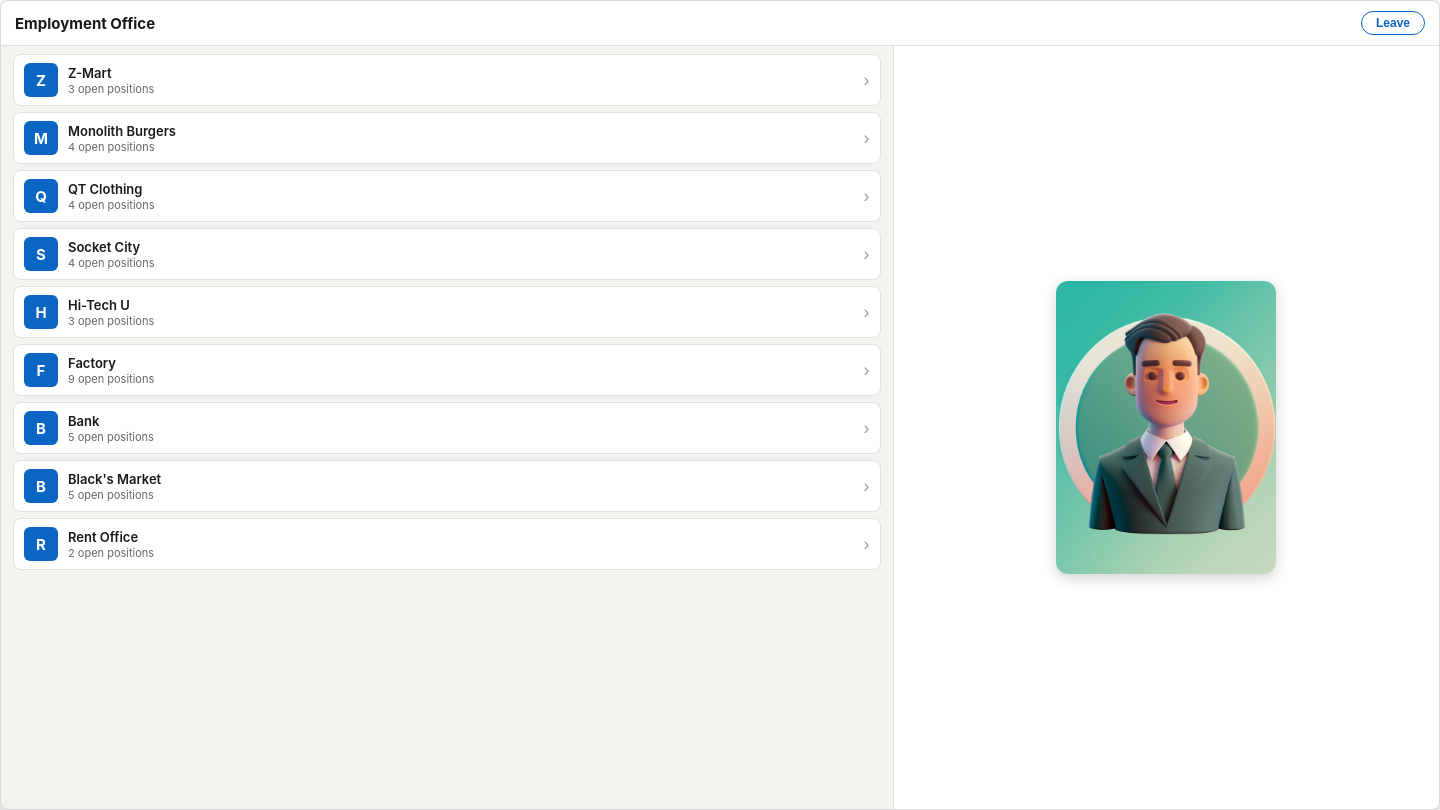
EmploymentOfficeScreen › shows a REJECTED notification with the missing degree as the reason
Click the text "Z-Mart": (90, 72) [68,64,112,80]
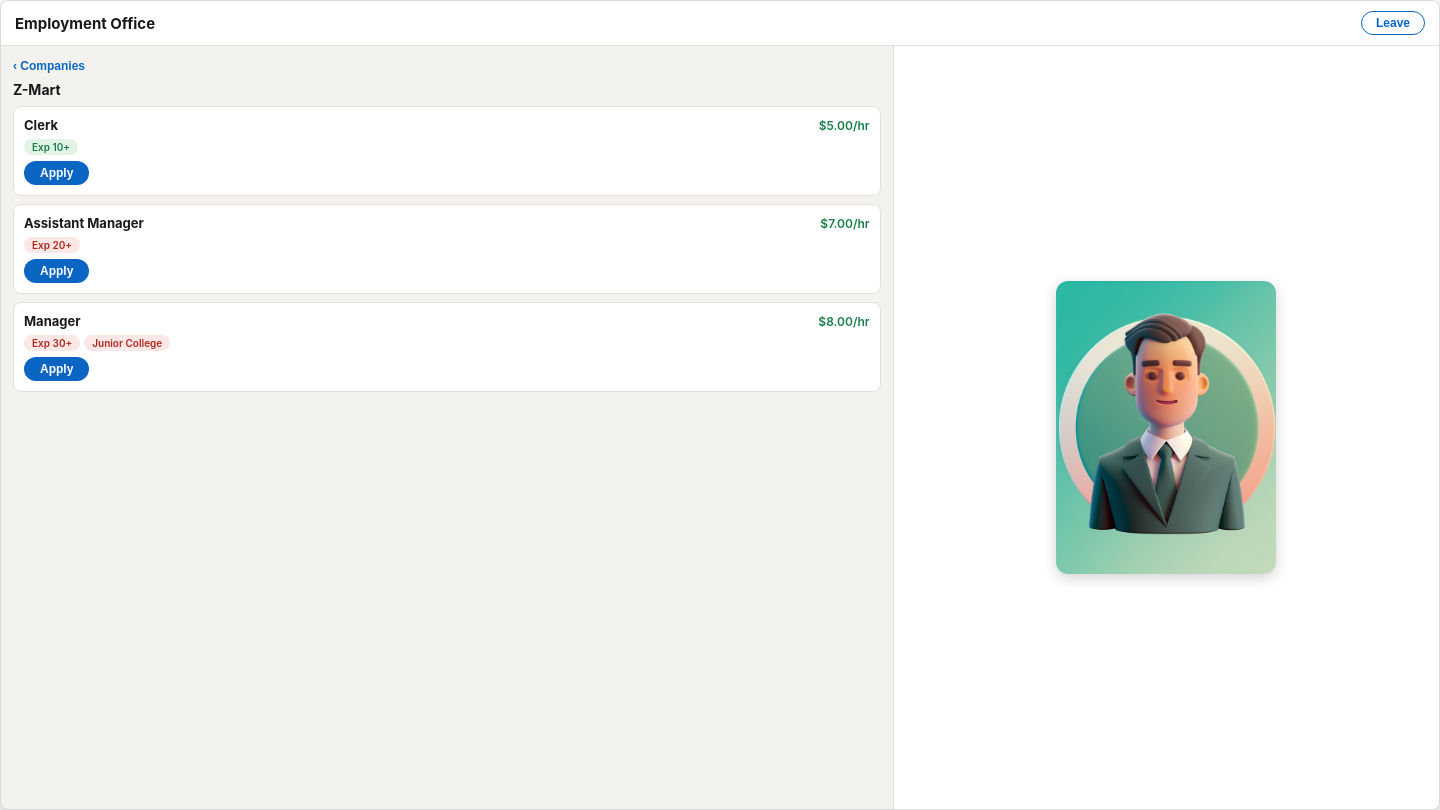
Click the button "Apply" below "30": (57, 369) [24,357,89,381]
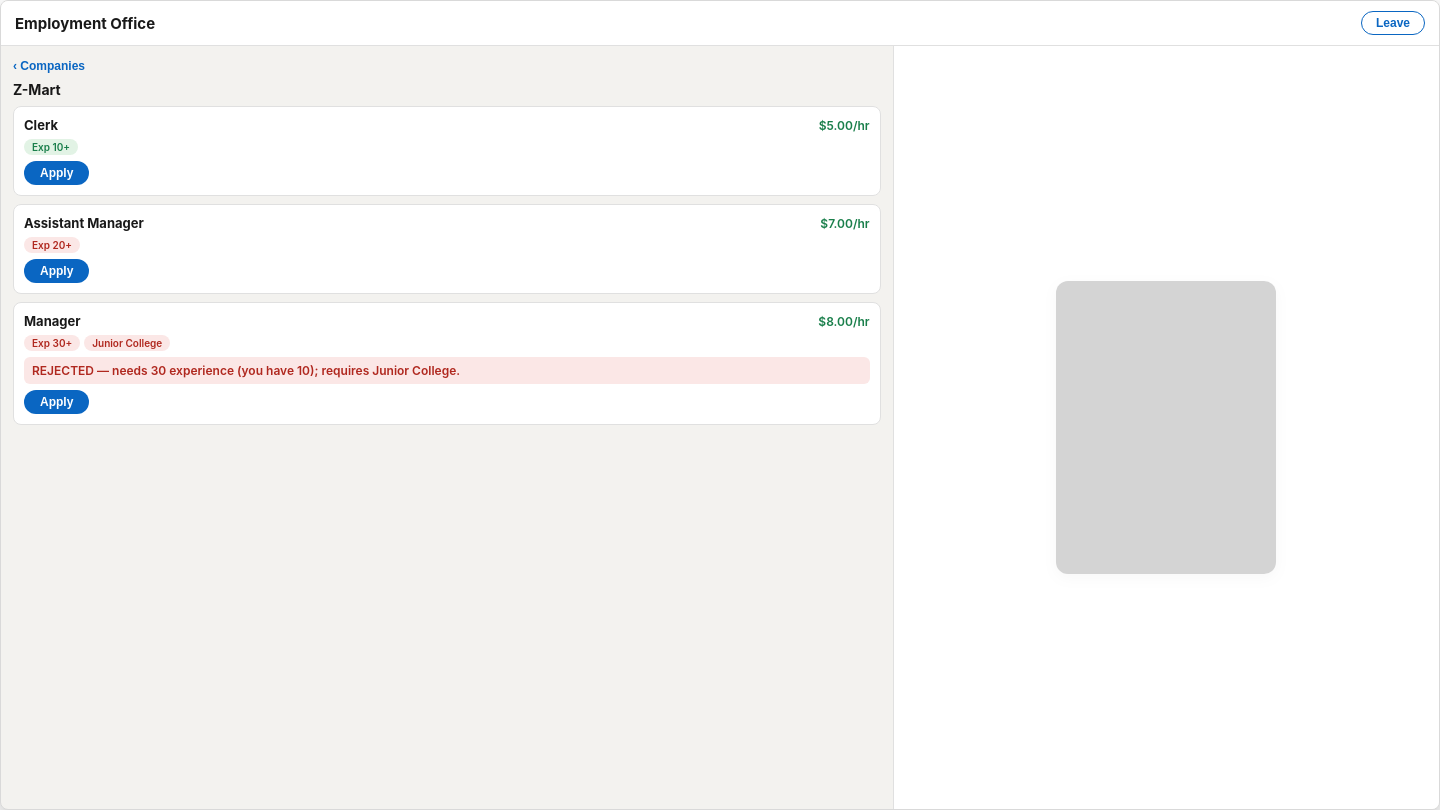
Expected: the text "requires Junior College" is shown, [32,363,460,378]
